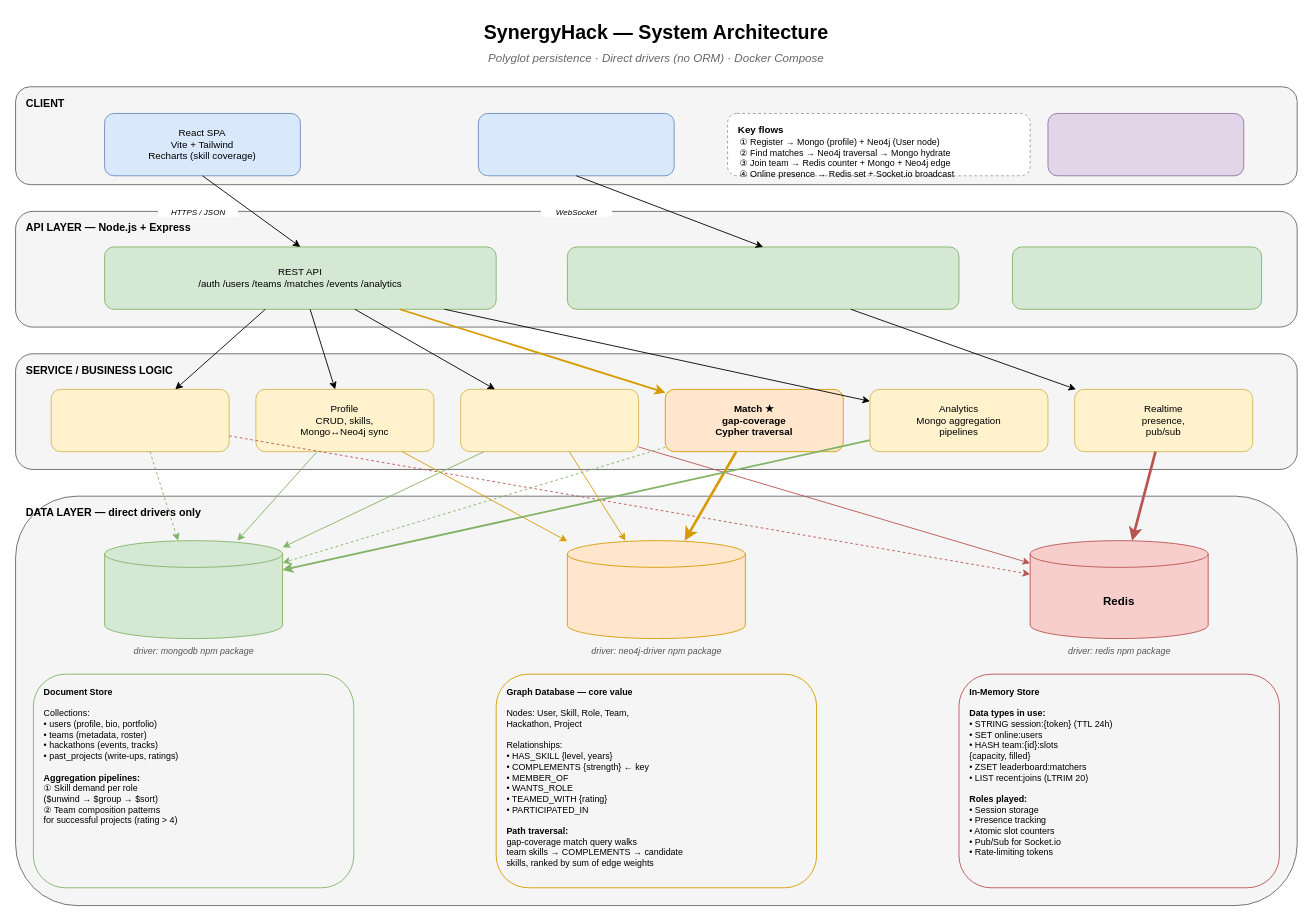
Some shapes in this 1313 by 921 pixel diagram are drawn without their labels. The centre of each missing label's shape, as x and y in pixels:
Auth register, login, JWT issue: point 139,420
Hosting Vercel (frontend) Railway/Render (backend): point 1145,144
Middleware CORS · JWT auth · rate-limit · validation: point 1136,277
MongoDB: point 193,589
Neo4j ★: point 655,589
Socket.io Client (presence & slot updates): point 575,144
Team create, join, slot management: point 549,420
WebSocket Server — Socket.io presence · slot events · Redis adapter for scale: point 762,277
